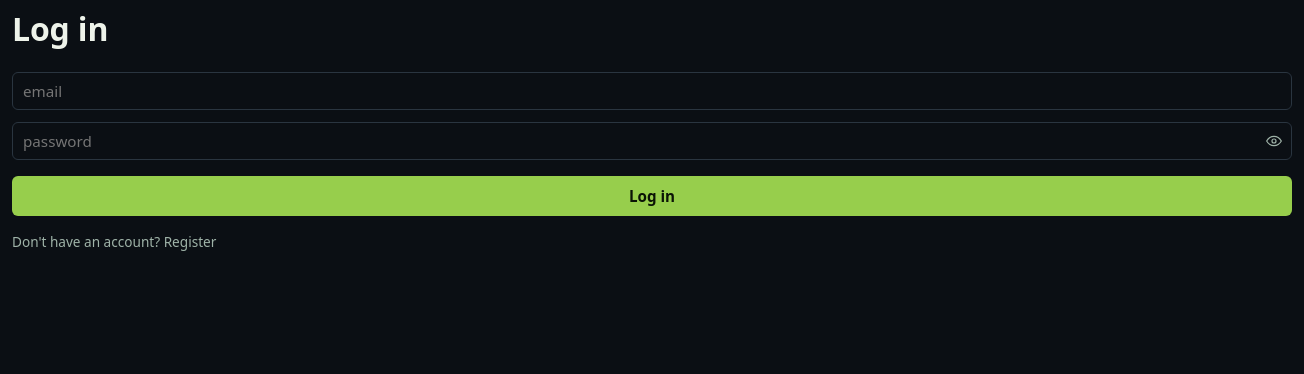
LoginForm › shows a live password-requirements checklist in register mode and blocks a weak submit
Click the button "Don't have an account? Register".
click(114, 241)  # box [12,228,1292,255]
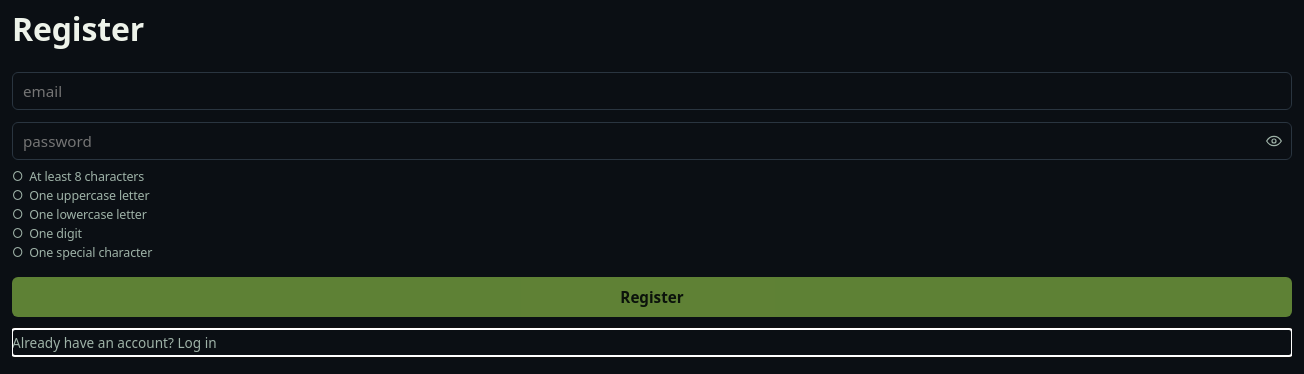
Check: the list item "At least 8 characters" is shown, box [29,168,144,185]
Check: the list item "One uppercase letter" is shown, box [29,187,150,204]
Check: the button "Register" is disabled, box [12,277,1292,317]
Type "weak@example.com" into the field with placeholder "email".
click(652, 91); type("weak@example.com")  # box [12,72,1292,110]
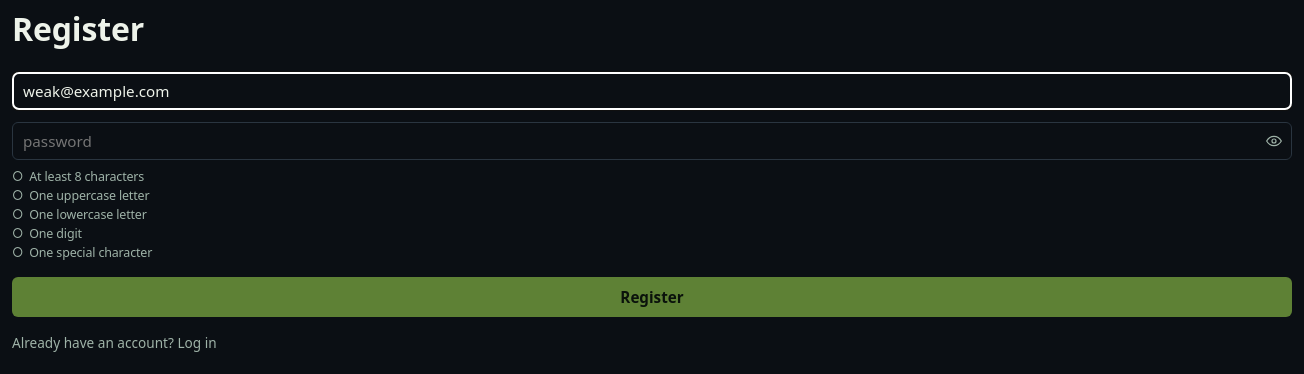
Type "weakpassword" into the password field with placeholder "password".
click(652, 141); type("weakpassword")  # box [12,122,1292,160]
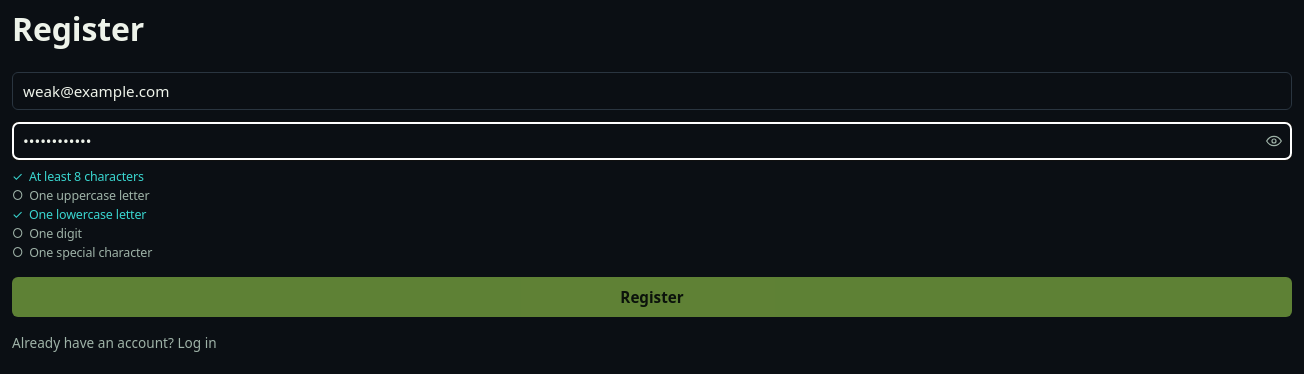
Check: the button "Register" is disabled, box [12,277,1292,317]
Type "W1!" into the password field with placeholder "password".
click(652, 141); type("W1!")  # box [12,122,1292,160]
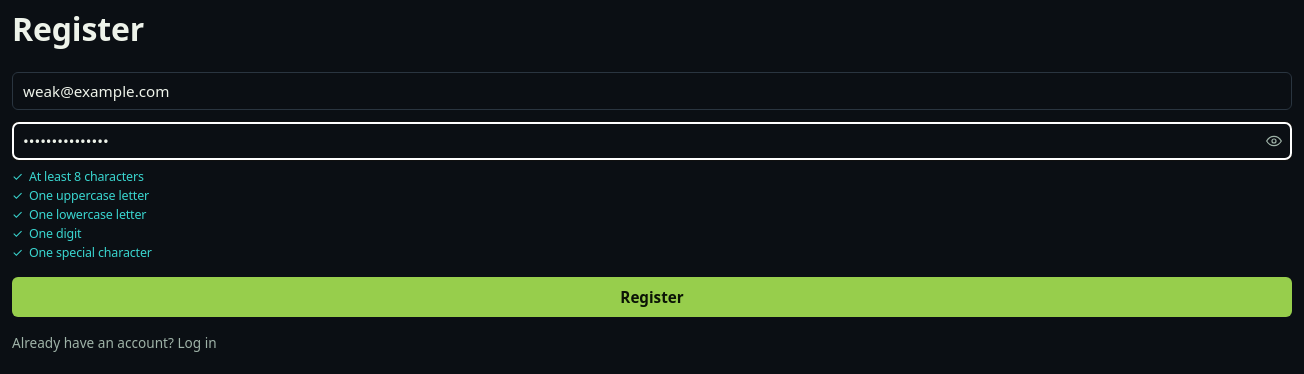
Check: the button "Register" is enabled, box [12,277,1292,317]
